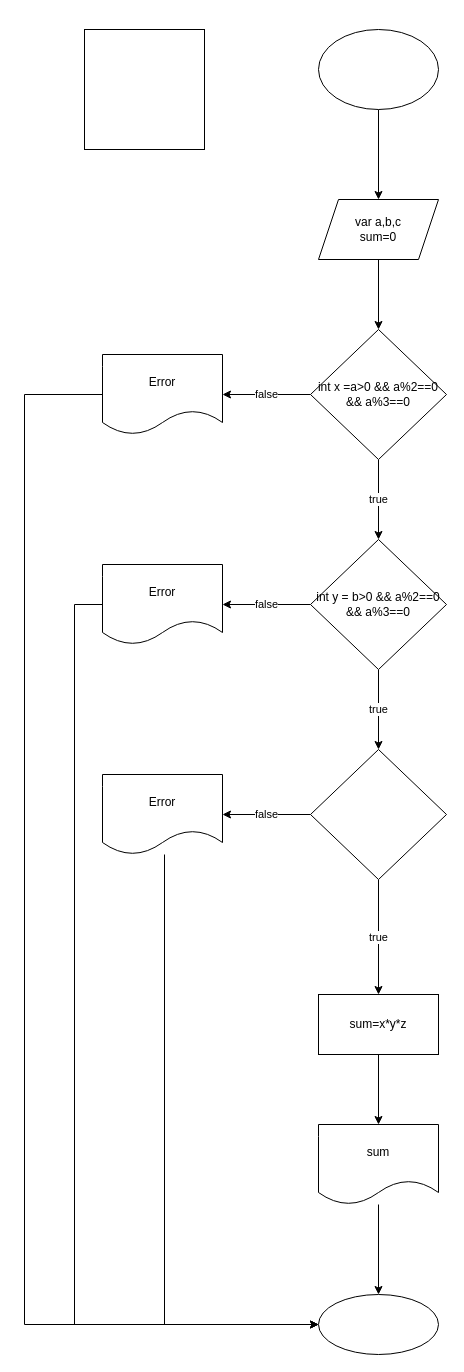
This 464x1372 diagram has some shape labels left out. The box of each missing label's shape, as (x1, y1, x2, y2) in pixels:
End: (318, 1294, 438, 1354)
int z = c>0 && a%2==0 && a%3==0: (310, 748, 446, 880)
Start: (318, 28, 438, 110)
Verilmiş 3 ədəddən müsbət, cüt və 3-ə bölünənlərin hasilini tapan alqoritm: (84, 28, 204, 150)
